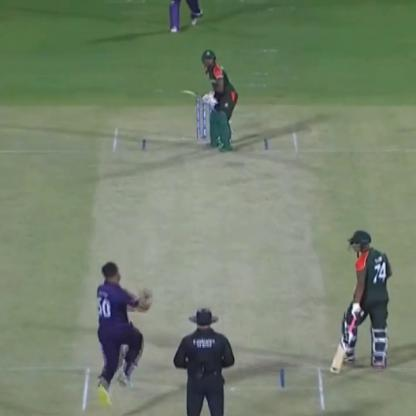bat: (326, 314, 360, 378), (174, 82, 219, 110)
pitch: (73, 127, 330, 414)
